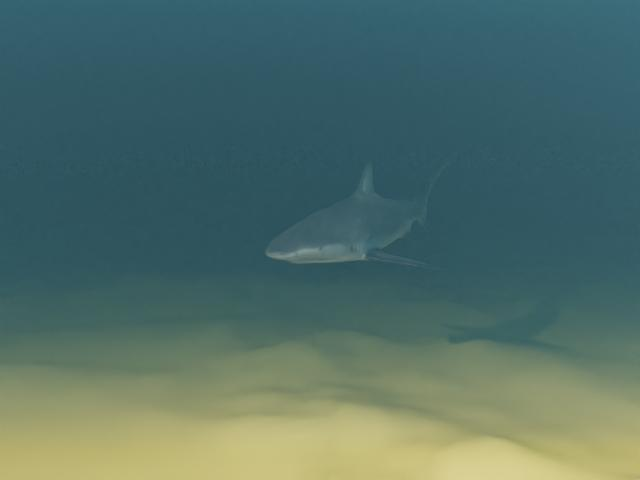Carribean Shark.001: (265, 153, 457, 269)
